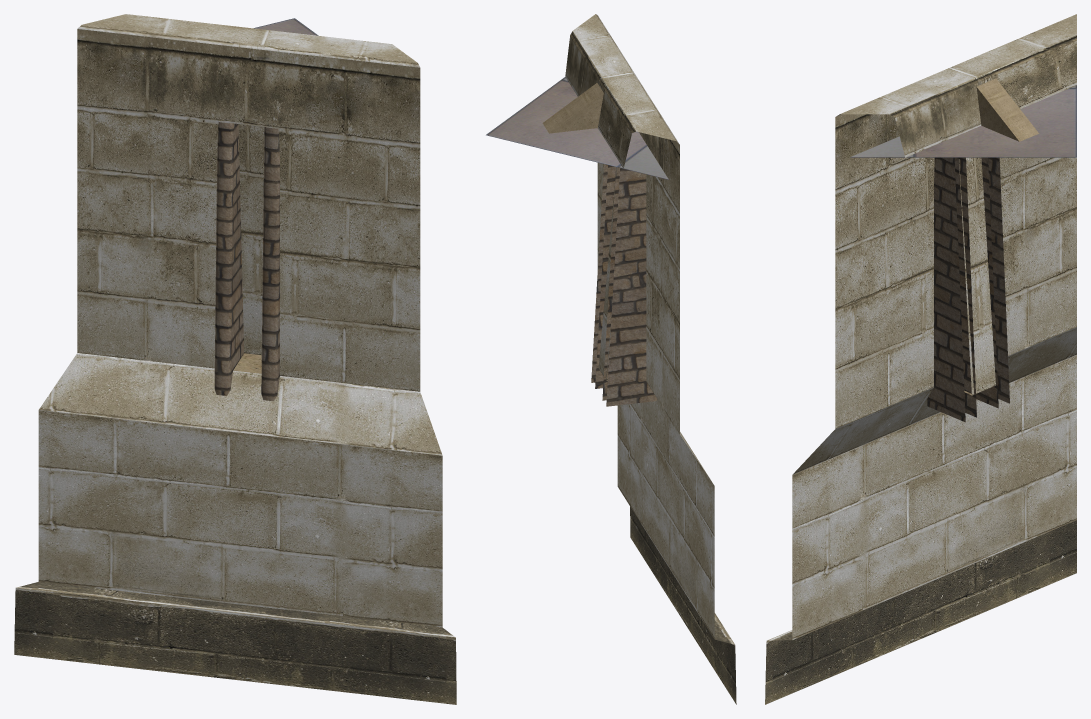
The model's file is castle-wall-45d-w-deco-2.fbx.
3 views of the same model, side by side, from view 1: azimuth 30°, elevation 25°; view 2: azimuth 150°, elevation 25°; view 3: azimuth 270°, elevation 25° (orthographic). The views are drawn at different scales.
Parts seen in each view (by area): view 1: castle-wall-45d-w-deco-2; view 2: castle-wall-45d-w-deco-2; view 3: castle-wall-45d-w-deco-2.
Part boxes in pixels (x1=…): castle-wall-45d-w-deco-2: x1=14, y1=14, x2=456, y2=704; castle-wall-45d-w-deco-2: x1=486, y1=14, x2=736, y2=704; castle-wall-45d-w-deco-2: x1=765, y1=14, x2=1076, y2=704.
Size of the model in its own units: 191 by 400 by 191.
